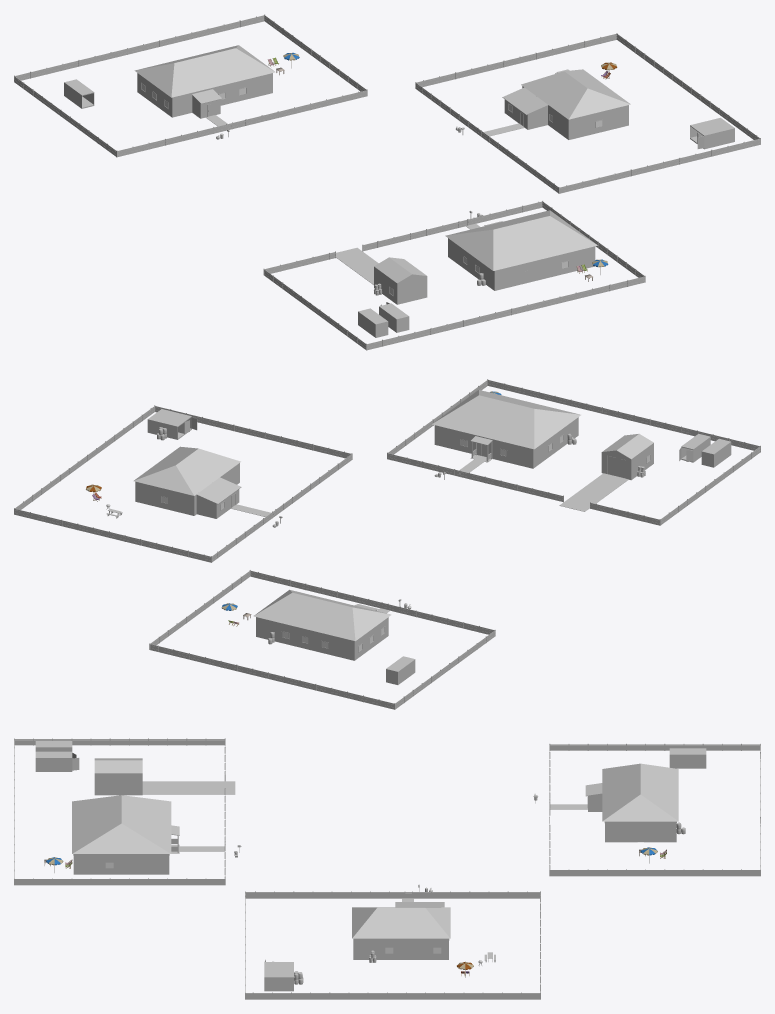
The model's file is HauseHutor10.fbx.
3 renders of one model, top to bottom at view 1: azimuth 30°, elevation 25°; view 2: azimuth 150°, elevation 25°; view 3: azimuth 270°, elevation 25°, orthographic. The views are drawn at different scales.
Parts seen in each view (by area): view 1: Roof.051, Zabor.095, Zabor.150, Zabor.130, Roof.097, RoofHause.018, HauseE.013, HauseC.002, Garaje.001, HauseJ.014, Container.003, Cube.062 (+5 smaller); view 2: Roof.051, Zabor.150, Zabor.095, Zabor.130, Roof.097, RoofHause.018, HauseC.002, HauseE.013, Garaje.001, HauseJ.014, Cube.062, Container.003 (+5 smaller); view 3: Roof.051, Zabor.130, Roof.097, Zabor.150, Zabor.095, RoofHause.018, HauseJ.014, HauseE.013, Garaje.001, HauseC.002, Cube.062, Container.003 (+2 smaller).
Part boxes in pixels (x1,y1,x2,y2): Roof.051: (445,210,597,270); Zabor.095: (263,200,645,350); Zabor.150: (14,14,367,157); Zabor.130: (415,33,760,193); Roof.097: (134,45,275,97); RoofHause.018: (521,69,630,119); HauseE.013: (448,238,595,290); HauseC.002: (137,73,272,117); Garaje.001: (374,257,427,304); HauseJ.014: (522,86,628,139); Container.003: (690,117,734,149); Cube.062: (336,247,378,284); Roof.051: (432,390,580,449); Zabor.150: (149,570,495,709); Zabor.095: (387,379,760,525); Zabor.130: (14,405,352,562); Roof.097: (253,589,391,641); RoofHause.018: (133,446,240,495); HauseC.002: (256,617,388,660); HauseE.013: (434,417,578,468); Garaje.001: (601,434,653,479); HauseJ.014: (135,463,239,515); Cube.062: (559,473,628,511); Container.003: (147,409,197,439); Roof.051: (72,795,171,853); Zabor.130: (245,891,540,999); Roof.097: (602,763,678,821); Zabor.150: (549,743,760,876); Zabor.095: (14,738,225,885); RoofHause.018: (352,907,450,938); HauseJ.014: (353,938,449,959); HauseE.013: (73,854,169,874); Garaje.001: (94,758,142,794); HauseC.002: (604,821,676,842); Cube.062: (142,781,235,794); Container.003: (264,959,293,991).
Size of the model in its own units: 10064 by 758 by 12488.
